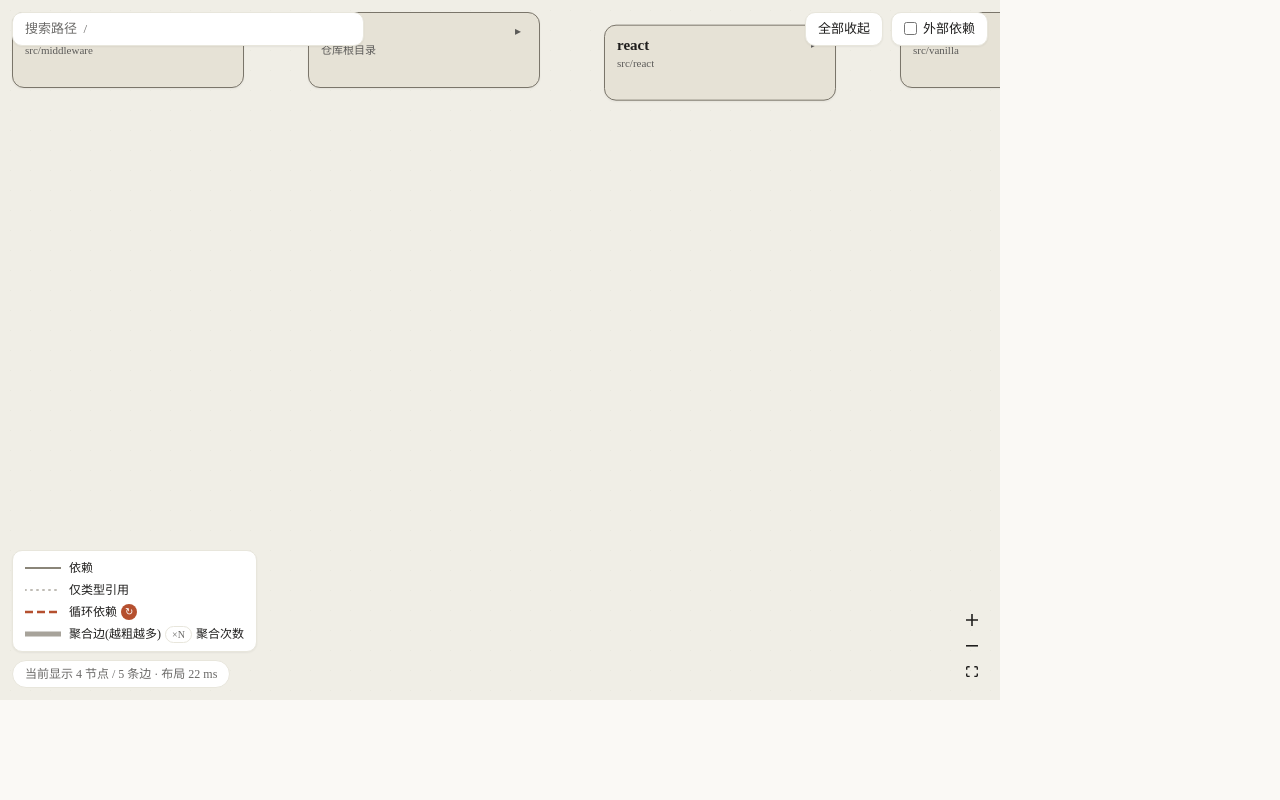
Test: <GraphView> 交互 › 单击节点主体只选中、不展开;Esc 取消选中
The width and height of the screenshot is (1280, 800).
Click the element with test id "node-m:src/middleware" at {"x": 128, "y": 50}, box 12,12 -> 244,88
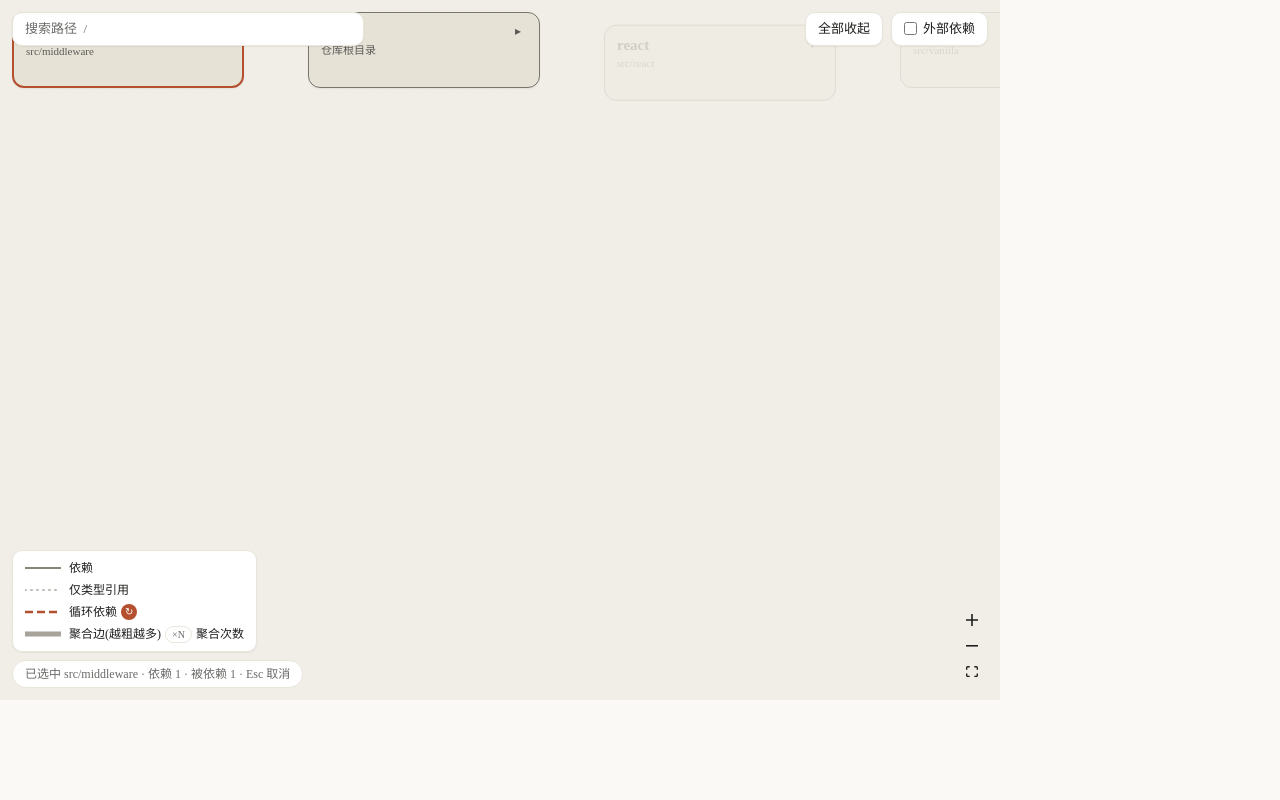
Check: the message shows "已选中 src/middleware", box 12,660 -> 303,688
Press Escape
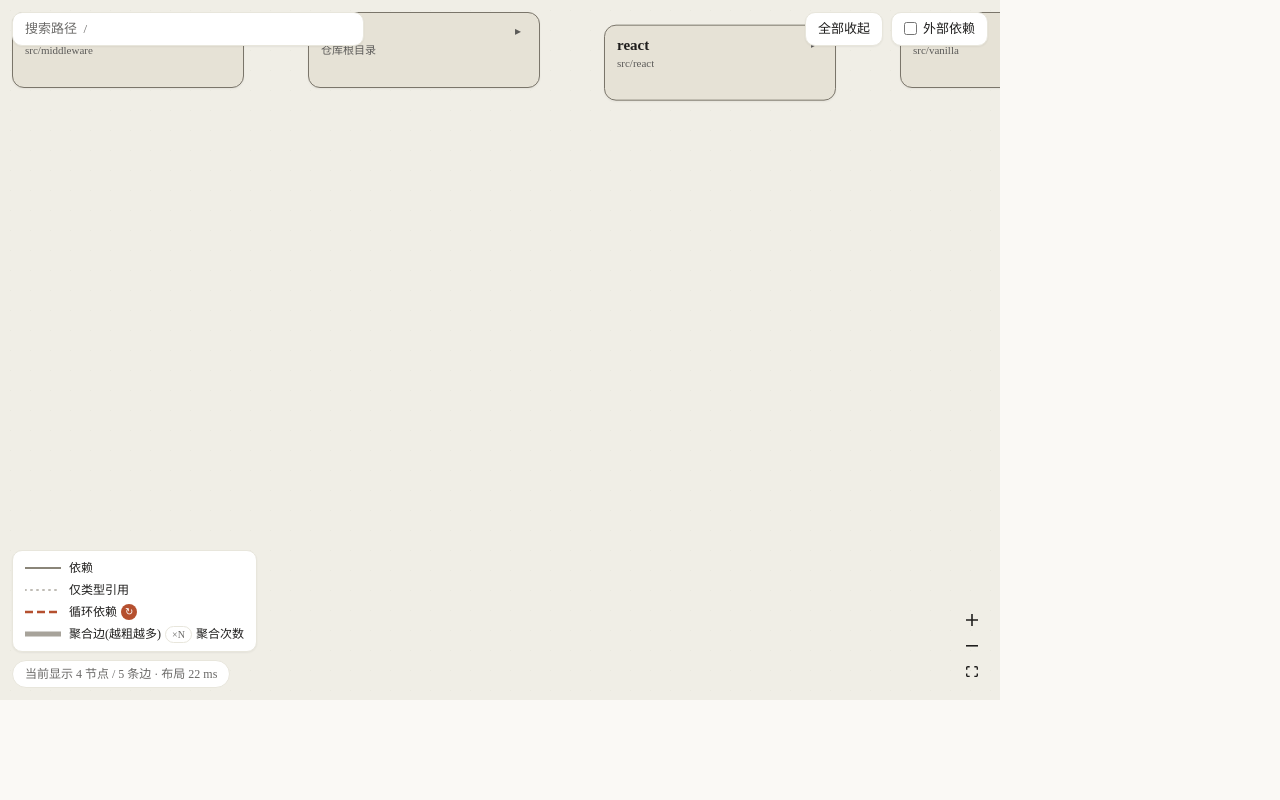
Check: the message no longer shows "已选中", box 12,660 -> 230,688
